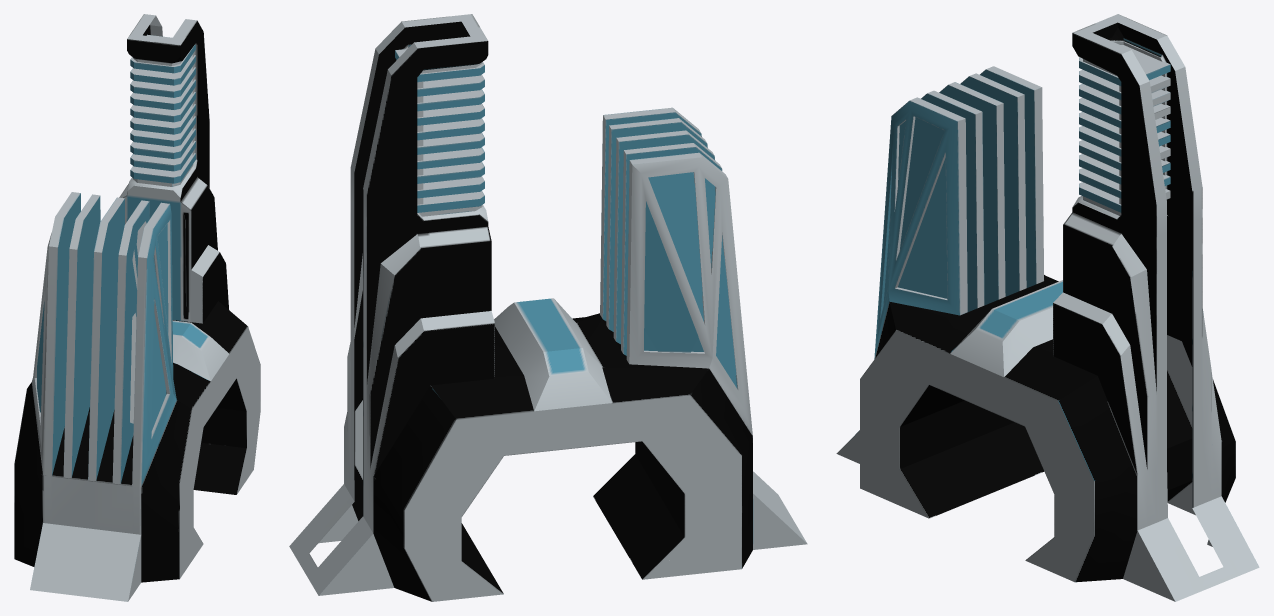
File: Building_6.fbx
3 renders of one model, left to right at view 1: azimuth 30°, elevation 25°; view 2: azimuth 150°, elevation 25°; view 3: azimuth 270°, elevation 25°, orthographic. The views are drawn at different scales.
Parts seen in each view (by area): view 1: building225.001_building_glass_0; view 2: building225.001_building_glass_0; view 3: building225.001_building_glass_0.
Part boxes in pixels (x1,y1,x2,y2): building225.001_building_glass_0: (14,14,260,601); building225.001_building_glass_0: (289,14,807,601); building225.001_building_glass_0: (836,14,1259,601).
Size of the model in its own units: 24.32 by 31.54 by 23.82.
